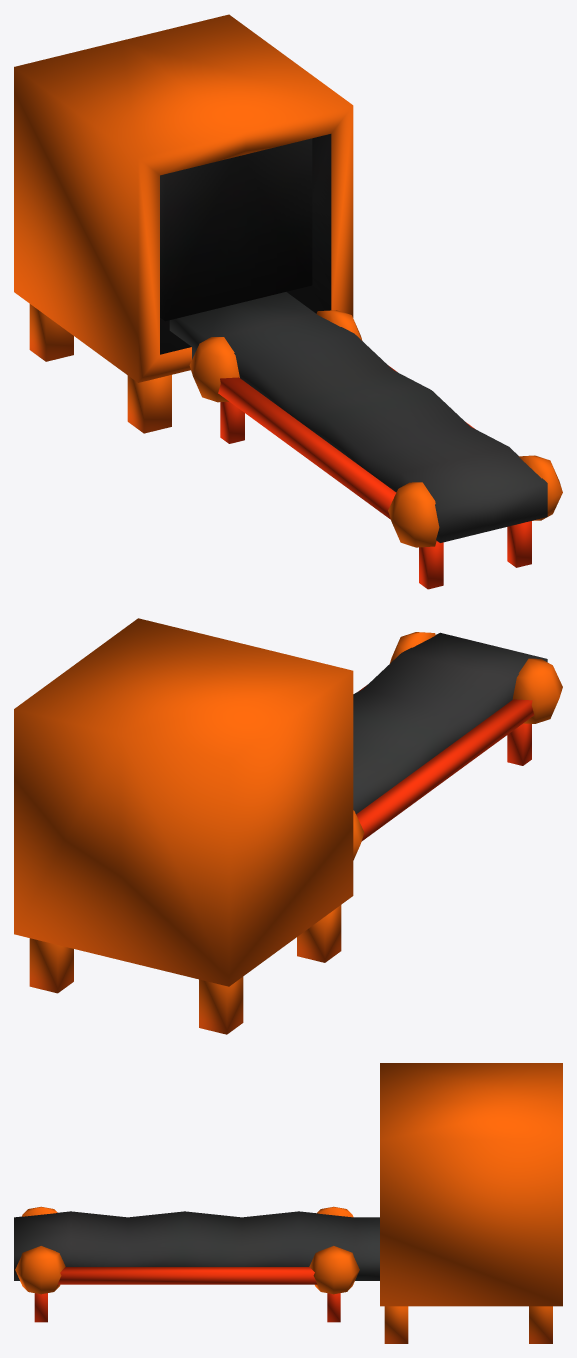
File: EsteiraInicio.fbx
3 views of the same model, one above another, from view 1: azimuth 30°, elevation 25°; view 2: azimuth 150°, elevation 25°; view 3: azimuth 270°, elevation 25° (orthographic). The views are drawn at different scales.
Visible parts, largest first — view 1: EsteiraInicio; view 2: EsteiraInicio; view 3: EsteiraInicio.
Boxes of the visible parts, bbox=[...] form: EsteiraInicio: bbox=[14, 14, 562, 589]; EsteiraInicio: bbox=[14, 618, 562, 1034]; EsteiraInicio: bbox=[14, 1063, 562, 1343].
Bounding box in the file's own units: 48.4 × 60.25 × 145.
1 material, 1 textured.
